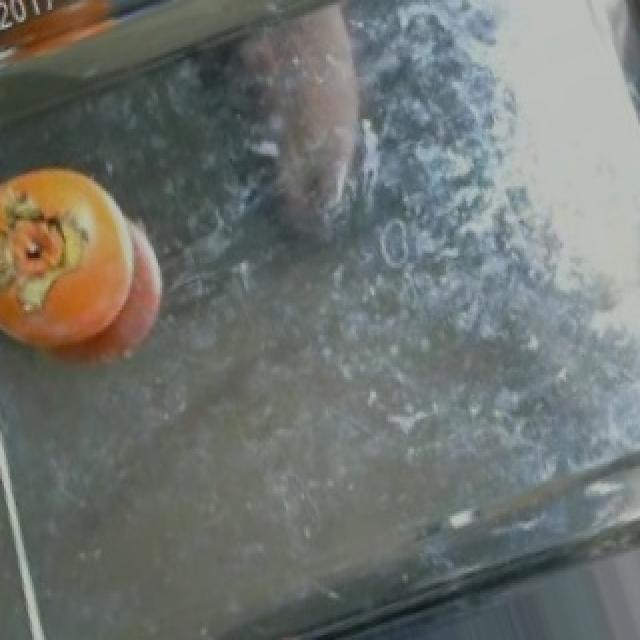Fruit: (0, 146, 158, 390), (0, 0, 146, 84)
